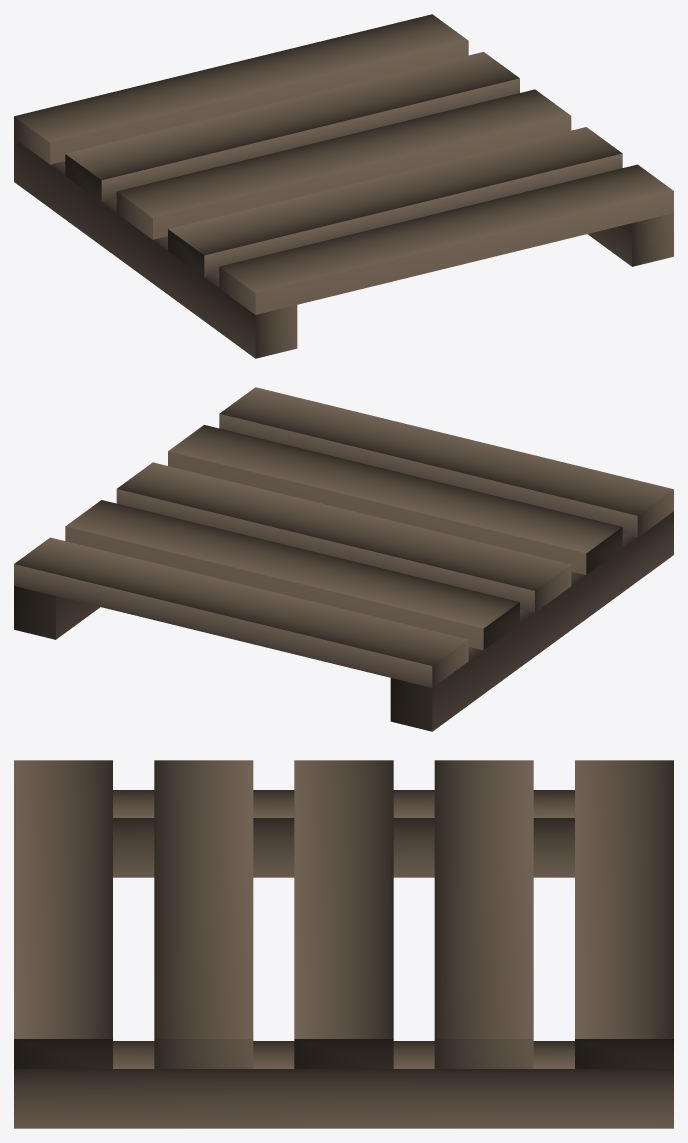
File: pallet.glb
3 renders of one model, top to bottom at view 1: azimuth 30°, elevation 25°; view 2: azimuth 150°, elevation 25°; view 3: azimuth 270°, elevation 25°, orthographic. The views are drawn at different scales.
Visible parts, largest first — view 1: pallet; view 2: pallet; view 3: pallet.
Part boxes in pixels (left/top/right/bottom): pallet: left=14, top=14, right=673, bottom=358; pallet: left=14, top=387, right=673, bottom=731; pallet: left=14, top=760, right=673, bottom=1128.
Bounding box in the file's own units: 1 × 0.15 × 1.
